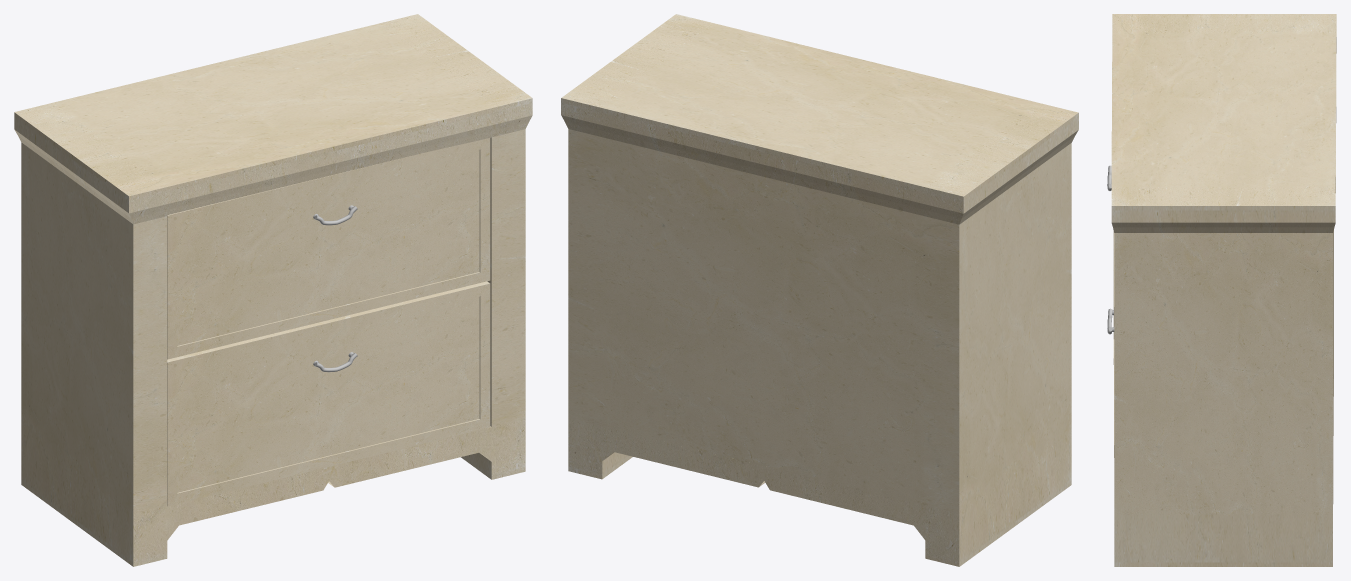
The model's file is neceser2.fbx.
3 renders of one model, left to right at view 1: azimuth 30°, elevation 25°; view 2: azimuth 150°, elevation 25°; view 3: azimuth 270°, elevation 25°, orthographic. The views are drawn at different scales.
Parts seen in each view (by area): view 1: IKEA_Aspelund_chest_3D:Object01, IKEA_Aspelund_chest_3D:Loft01, IKEA_Aspelund_chest_3D:Loft02; view 2: IKEA_Aspelund_chest_3D:Object01; view 3: IKEA_Aspelund_chest_3D:Object01, IKEA_Aspelund_chest_3D:Loft01.
Boxes of the visible parts, bbox=[...] form: IKEA_Aspelund_chest_3D:Object01: bbox=[14, 14, 532, 566]; IKEA_Aspelund_chest_3D:Loft01: bbox=[167, 281, 490, 506]; IKEA_Aspelund_chest_3D:Loft02: bbox=[167, 138, 490, 359]; IKEA_Aspelund_chest_3D:Object01: bbox=[561, 14, 1078, 566]; IKEA_Aspelund_chest_3D:Object01: bbox=[1111, 14, 1336, 566]; IKEA_Aspelund_chest_3D:Loft01: bbox=[1107, 231, 1114, 457].
Bounding box in the file's own units: 891 × 787 × 449.
Materials: 2 (1 with a texture image).
